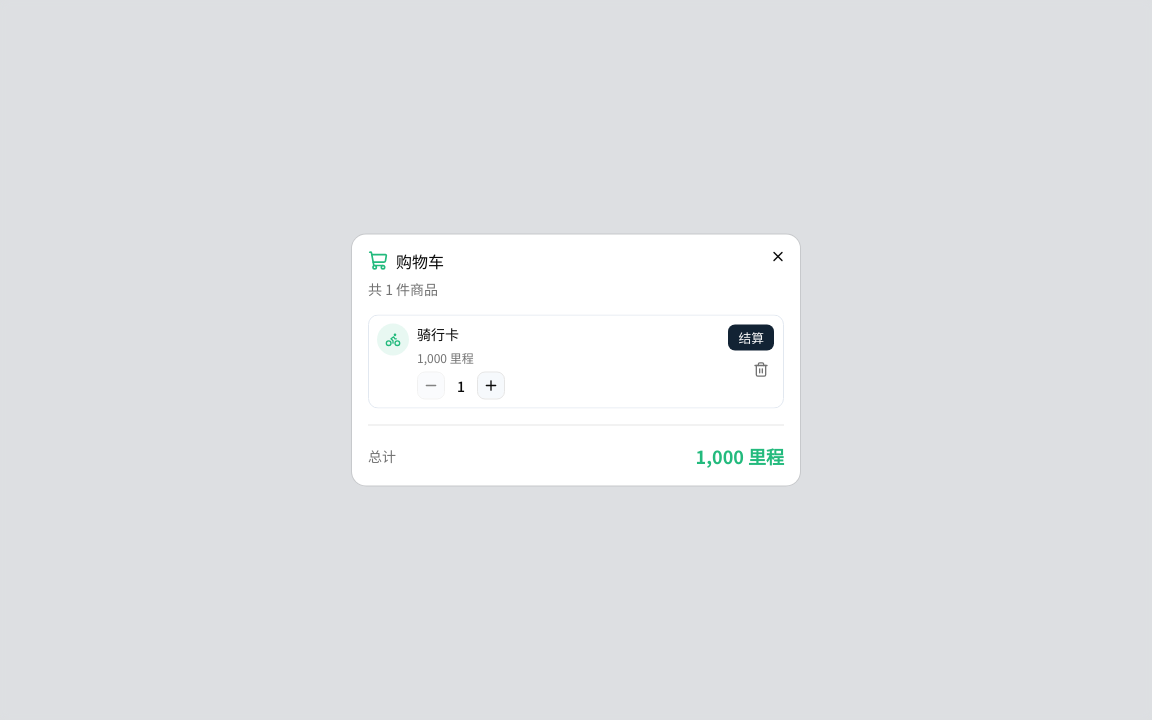
Test: CartDialog catalog reconciliation › blocks an open confirmation when repricing exceeds the current balance
The image size is (1152, 720).
Step 1. Click the button "结算" → (751, 338), box [727,324,775,352]
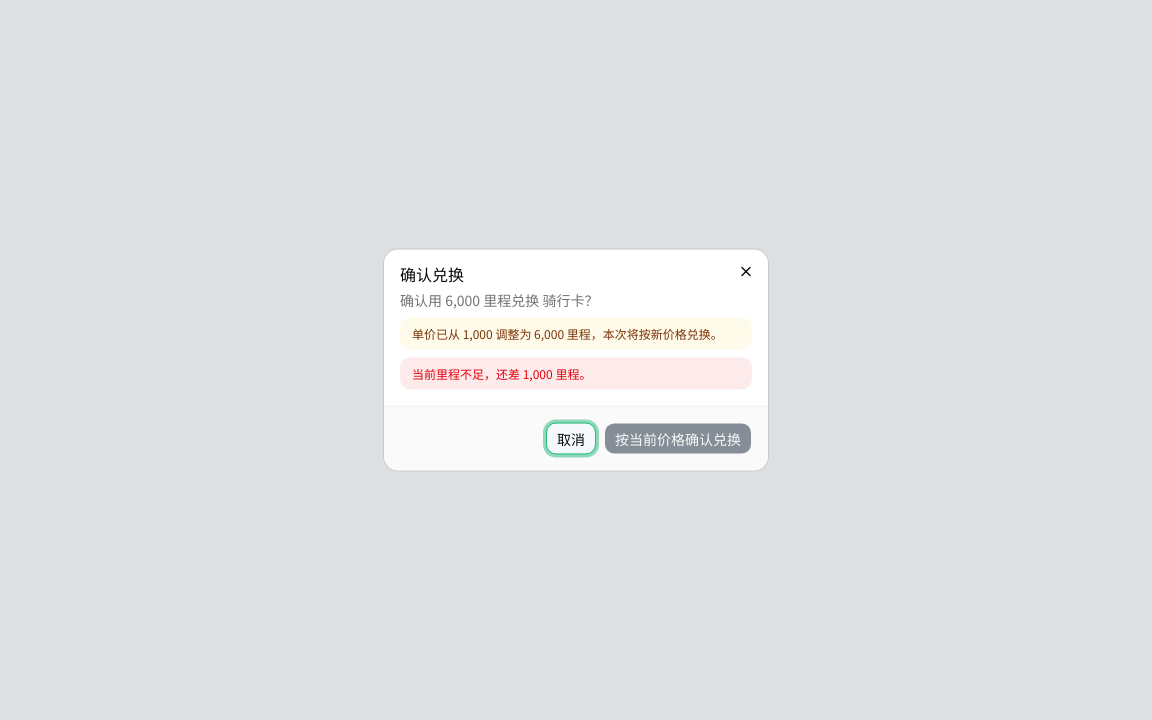
Expected: the message "当前里程不足，还差 1,000 里程。" is shown, [400,358,752,390]
Expected: the button "按当前价格确认兑换" is disabled, [604,422,752,454]
